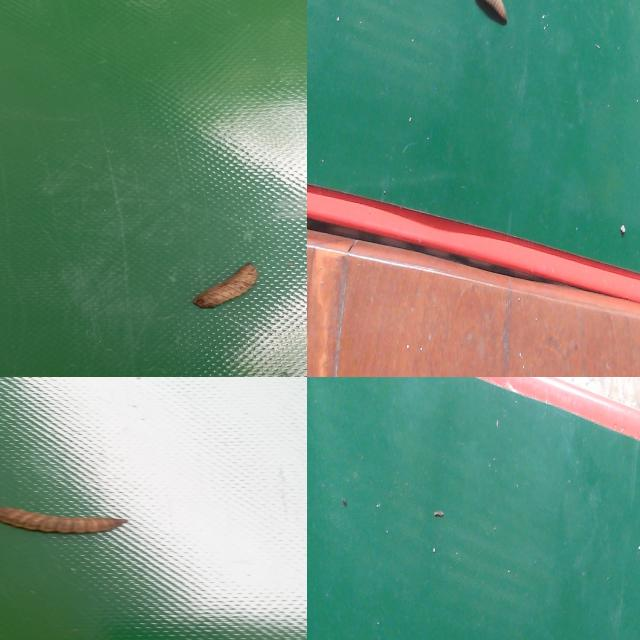Maggot: (0, 508, 125, 537), (192, 264, 259, 311), (473, 0, 510, 27)
